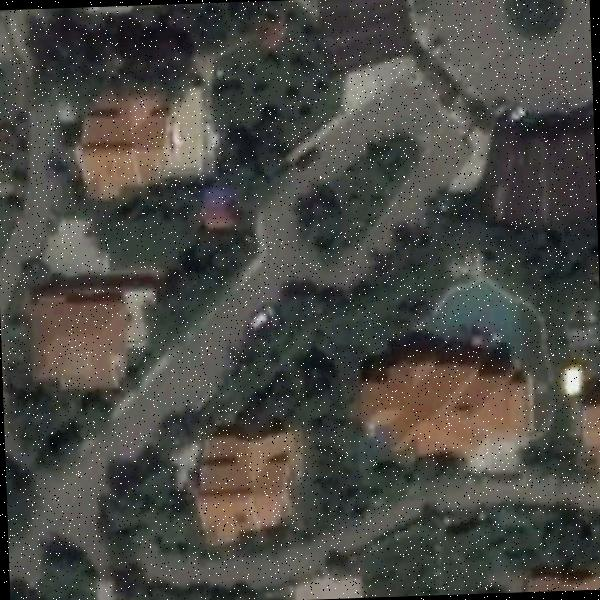Buildings: (368, 358, 520, 457), (200, 439, 304, 536), (32, 288, 138, 382), (86, 110, 208, 178), (525, 562, 600, 592), (578, 384, 600, 485)
